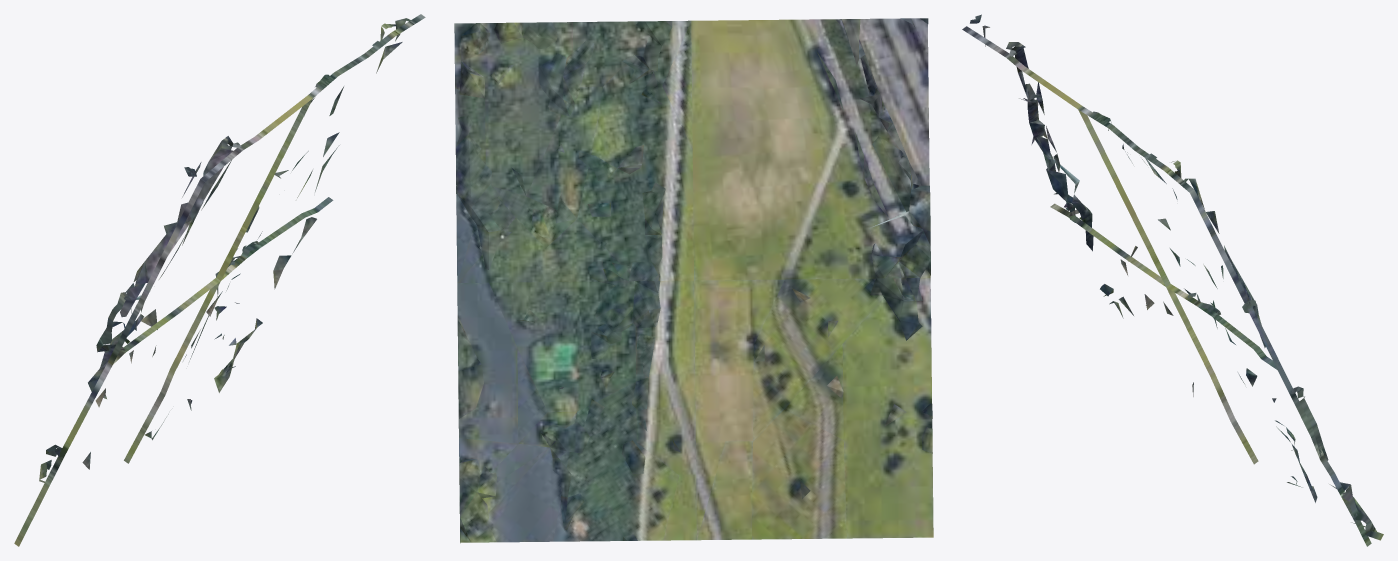
The picture shows the model from 3 angles, left to right: view 1: azimuth 30°, elevation 25°; view 2: azimuth 150°, elevation 25°; view 3: azimuth 270°, elevation 25°; orthographic projection. The views are drawn at different scales.
Bounding box in the file's own units: 308 × 285 × 263.
Materials: 1 (1 with a texture image).
